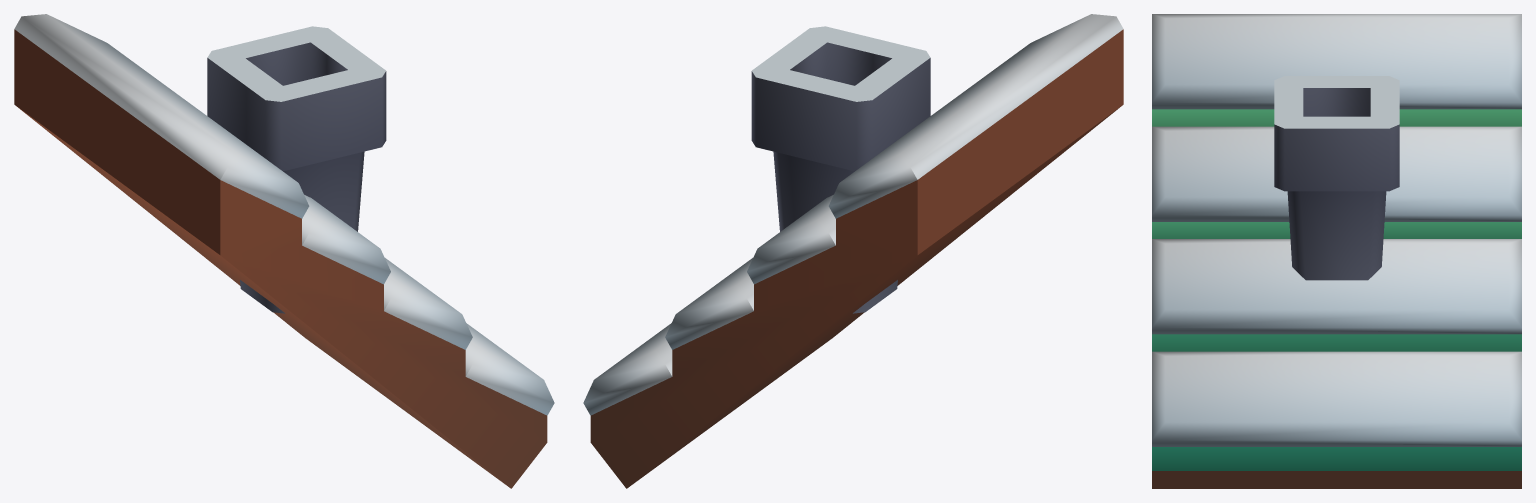
File: cabin-roof-snow-chimney.glb
3 renders of one model, left to right at view 1: azimuth 30°, elevation 25°; view 2: azimuth 150°, elevation 25°; view 3: azimuth 270°, elevation 25°, orthographic. The views are drawn at different scales.
Parts seen in each view (by area): view 1: cabin-roof-snow-chimney; view 2: cabin-roof-snow-chimney; view 3: cabin-roof-snow-chimney.
Part boxes in pixels (x1,y1,x2,y2): cabin-roof-snow-chimney: [14, 14, 554, 488]; cabin-roof-snow-chimney: [583, 14, 1123, 488]; cabin-roof-snow-chimney: [1152, 14, 1521, 488].
Bounding box in the file's own units: 1.31 × 1.48 × 1.4.
